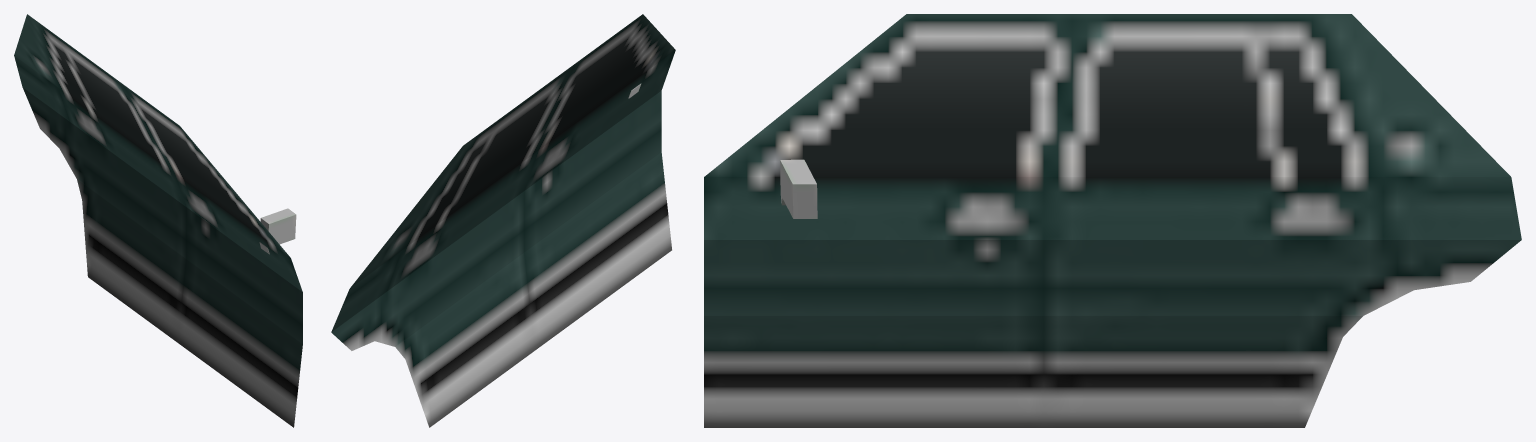
File: sedan_green_door_FL.obj
The picture shows the model from 3 angles, left to right: view 1: azimuth 30°, elevation 25°; view 2: azimuth 150°, elevation 25°; view 3: azimuth 270°, elevation 25°; orthographic projection. The views are drawn at different scales.
Visible parts, largest first — view 1: Car5.009, Car5.003; view 2: Car5.009; view 3: Car5.009, Car5.003.
Part boxes in pixels (box(x1,y1,x2,y2)): Car5.009: box(14, 14, 302, 427); Car5.003: box(259, 208, 296, 254); Car5.009: box(331, 14, 675, 427); Car5.009: box(704, 14, 1521, 427); Car5.003: box(780, 159, 817, 218).
Size of the model in its own units: 0.5158 by 1.67 by 3.23.
